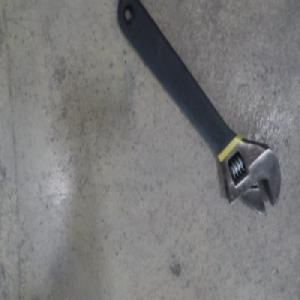AdjustableWrench: (117, 0, 280, 214)
